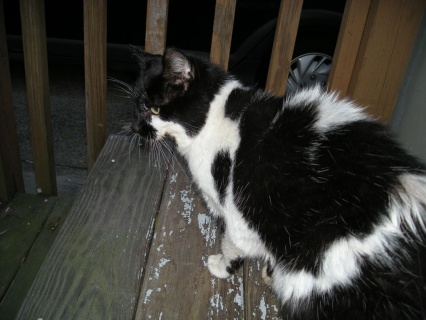Cat: (101, 44, 426, 319)
